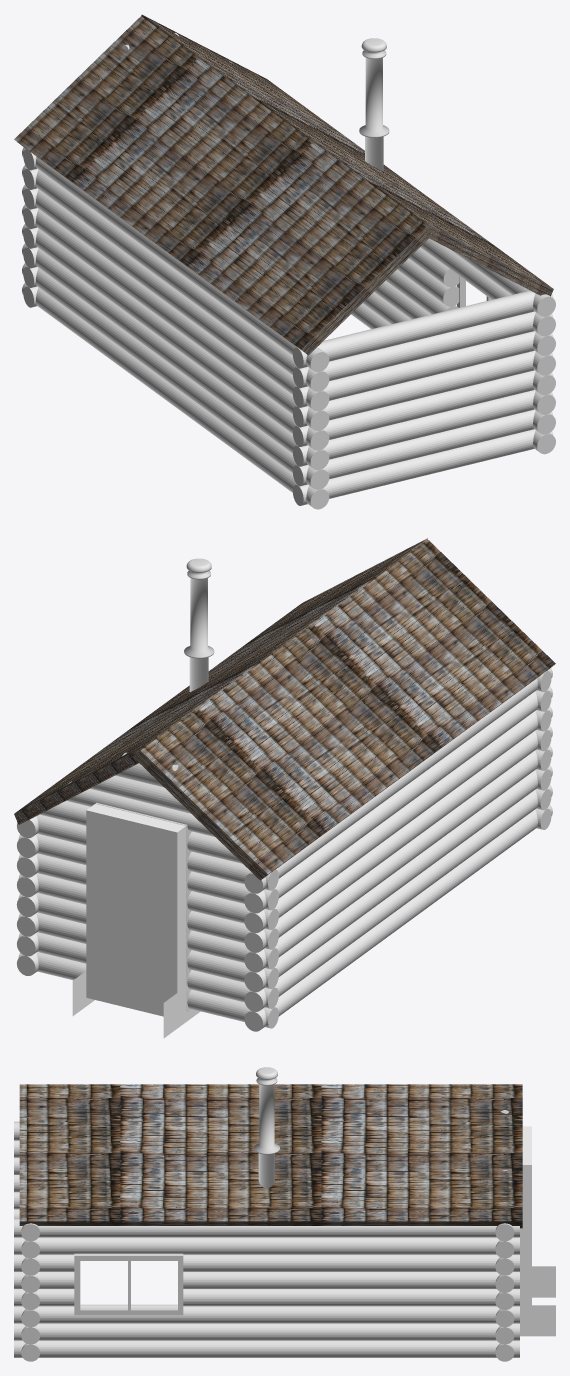
File: Wood Cabin Custom.fbx
3 renders of one model, top to bottom at view 1: azimuth 30°, elevation 25°; view 2: azimuth 150°, elevation 25°; view 3: azimuth 270°, elevation 25°, orthographic. The views are drawn at different scales.
Visible parts, largest first — view 1: Roof 1, Roof 2, Log L 4.004, Log L 3, Log L 4, Log L 2, Log L 4.003, Log L, Log L 1, Log F .014, Log F .004, Log F .002 (+15 smaller); view 2: Roof 1, CTRL_Hole.001, Roof 2, Log L 4.004, Log L, Log L 1, Log L 3, Log L 4, Log L 4.003, Log L 2, Log L 4.006, Cylinder.001 (+22 smaller); view 3: Roof 2, Log L 1.001, Log L.001, Log L 4.005, Log L 2.001, Log L 3.001, Log L 4.002, Log L 4.001, Log L 4.007, CTRL_Hole.001, Cylinder.001, CTRL_Baseboard.001 (+3 smaller).
Boxes of the visible parts, bbox=[...] form: Roof 1: bbox=[14, 16, 434, 355]; Roof 2: bbox=[141, 14, 553, 296]; Log L 4.004: bbox=[22, 165, 329, 391]; Log L 3: bbox=[22, 224, 329, 450]; Log L 4: bbox=[22, 204, 329, 430]; Log L 2: bbox=[22, 243, 329, 470]; Log L 4.003: bbox=[22, 184, 329, 411]; Log L: bbox=[22, 282, 329, 509]; Log L 1: bbox=[22, 263, 329, 489]; Log F .014: bbox=[292, 290, 553, 368]; Log F .004: bbox=[292, 331, 553, 407]; Log F .002: bbox=[292, 390, 553, 466]; Roof 1: bbox=[133, 540, 555, 880]; CTRL_Hole.001: bbox=[86, 804, 191, 1018]; Roof 2: bbox=[14, 538, 427, 824]; Log L 4.004: bbox=[244, 686, 552, 913]; Log L: bbox=[244, 804, 552, 1031]; Log L 1: bbox=[244, 784, 552, 1011]; Log L 3: bbox=[244, 745, 552, 972]; Log L 4: bbox=[244, 725, 552, 952]; Log L 4.003: bbox=[244, 706, 552, 933]; Log L 2: bbox=[244, 765, 552, 992]; Log L 4.006: bbox=[244, 668, 552, 893]; Cylinder.001: bbox=[184, 558, 214, 691]; Roof 2: bbox=[19, 1084, 522, 1228]; Log L 1.001: bbox=[14, 1323, 519, 1340]; Log L.001: bbox=[14, 1340, 519, 1357]; Log L 4.005: bbox=[14, 1237, 519, 1254]; Log L 2.001: bbox=[14, 1304, 519, 1323]; Log L 3.001: bbox=[14, 1289, 519, 1306]; Log L 4.002: bbox=[14, 1254, 519, 1271]; Log L 4.001: bbox=[14, 1272, 519, 1288]; Log L 4.007: bbox=[14, 1218, 519, 1237]; CTRL_Hole.001: bbox=[520, 1126, 531, 1328]; Cylinder.001: bbox=[253, 1067, 279, 1187]; CTRL_Baseboard.001: bbox=[520, 1266, 555, 1336].
Size of the model in its own units: 409 by 493 by 857.
Materials: 50 (1 with a texture image).
